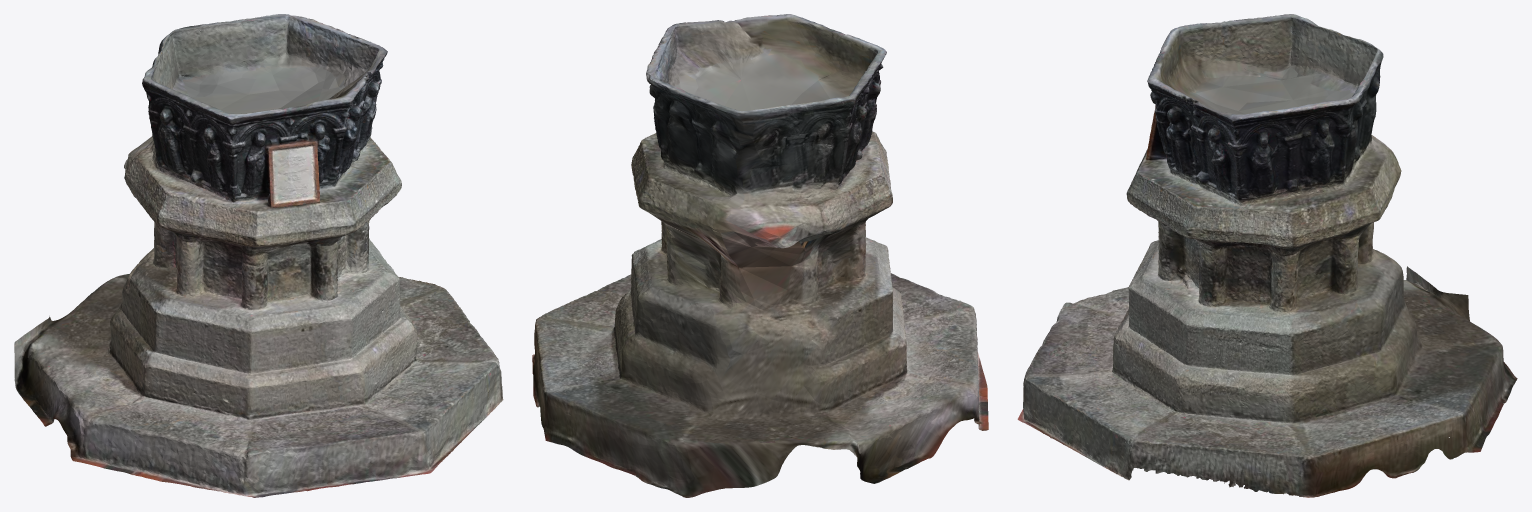
3 renders of one model, left to right at view 1: azimuth 30°, elevation 25°; view 2: azimuth 150°, elevation 25°; view 3: azimuth 270°, elevation 25°, orthographic.
Bounding box in the file's own units: 1.08 × 0.8363 × 1.12.
1 material, 1 textured.
